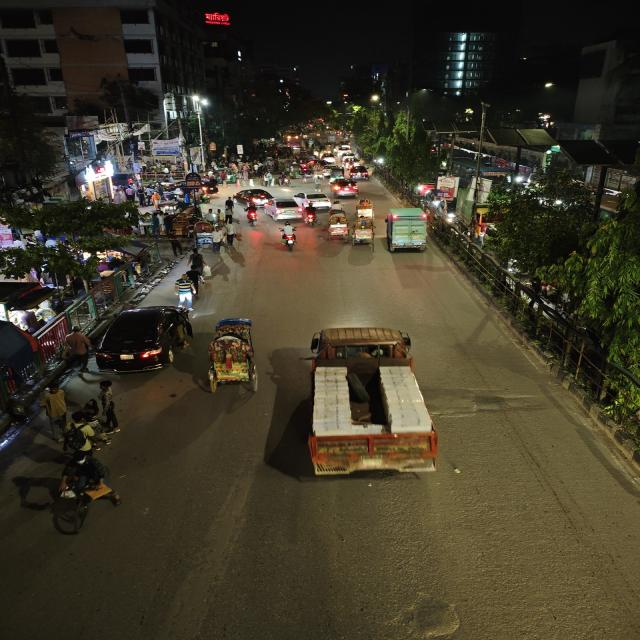bicycle: (36, 468, 122, 548)
car: (92, 302, 195, 376), (266, 198, 305, 221), (232, 187, 273, 207), (330, 178, 360, 197), (306, 192, 334, 210), (349, 165, 372, 181), (202, 181, 222, 197)
cng: (325, 166, 345, 180)
motorcycle: (277, 221, 302, 253), (243, 203, 261, 227), (301, 206, 320, 224), (277, 175, 291, 188)
pedestrian: (60, 327, 96, 385), (87, 379, 124, 432), (38, 384, 72, 438), (170, 272, 204, 308), (184, 248, 209, 282), (209, 207, 222, 224), (312, 178, 325, 192), (264, 173, 276, 187)
pickup_van: (281, 320, 459, 488)
rickshaw: (200, 316, 262, 396), (185, 218, 220, 252), (323, 216, 352, 243), (351, 216, 376, 244), (352, 197, 377, 220), (221, 170, 240, 188)
truck: (382, 206, 432, 254)
